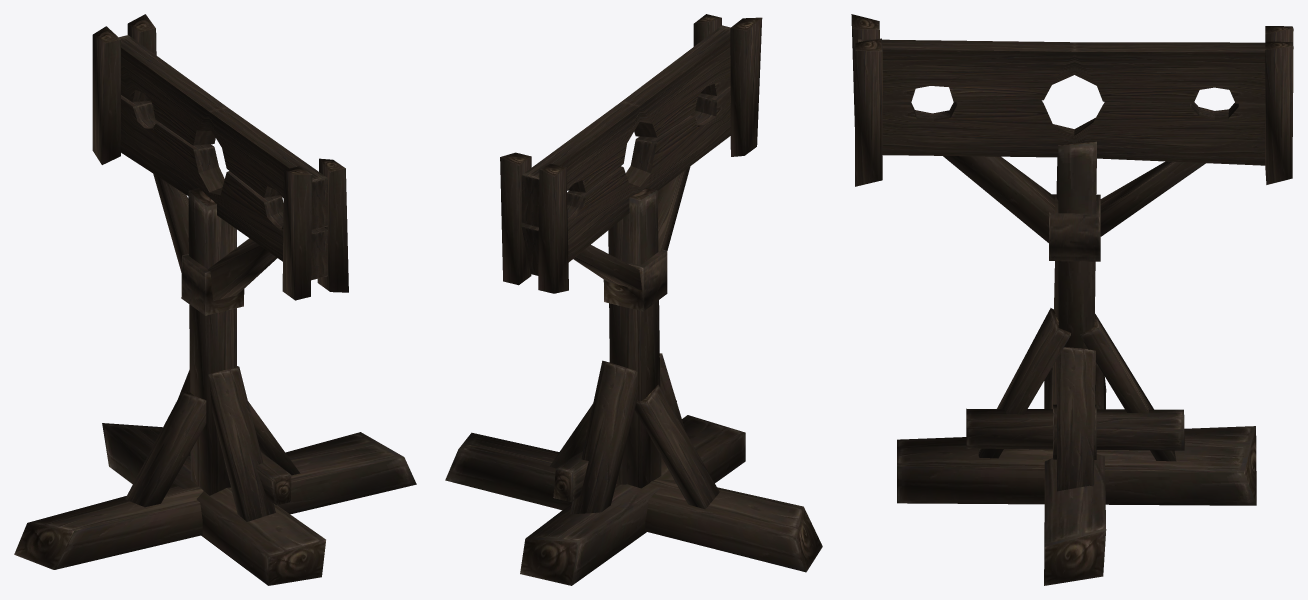
3 views of the same model, side by side, from view 1: azimuth 30°, elevation 25°; view 2: azimuth 150°, elevation 25°; view 3: azimuth 270°, elevation 25° (orthographic). The views are drawn at different scales.
Size of the model in its own units: 1.72 by 1.88 by 1.63.
Materials: 1 (1 with a texture image).
